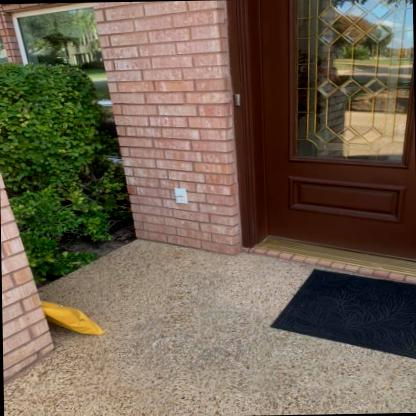envelope: (35, 299, 108, 337)
